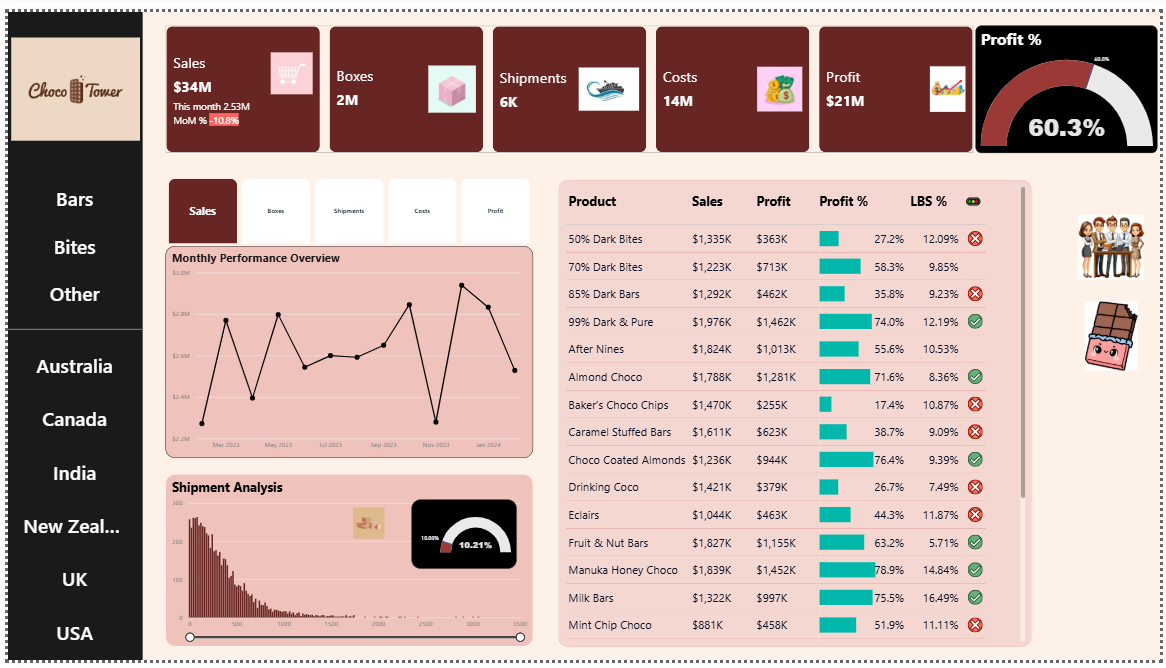

The page's visual inventory and layout, read from the dashboard file:
{"tool":"powerbi","page":{"name":"Sales Report","canvas":[1920,1080],"ordinal":2},"visuals":[{"type":"shape","box":[0,0,224.5,1080.8],"z":0},{"type":"cardVisual","fields":{"Data":["_Measures.Total Sales","_Measures.Total Boxes","_Measures.Total Shipments","_Measures.Total Costs","_Measures.Total Profit"]},"box":[262.5,21.9,1350,212.5],"z":1000},{"type":"gauge","fields":{"Y":["_Measures.Profit %"]},"box":[1612.5,21.9,303.1,212.5],"z":2000},{"type":"image","box":[0,21.9,225,212.5],"z":3000},{"type":"lineChart","title":"Monthly Performance Overview ","fields":{"Y":["_Measures.Total Sales"],"Category":["calendar.Start of Month"]},"box":[262.5,390.6,612.5,353.1],"z":4000},{"type":"advancedSlicerVisual","fields":{"Values":["Measure Selector.Measure Selector"]},"box":[262.5,271.9,612.5,118.8],"z":5000},{"type":"columnChart","title":"Shipment Analysis","fields":{"Category":["shipments.Boxes (bins)"],"Y":["_Measures.Total Shipments"]},"box":[262.5,768.8,612.5,287.5],"z":6000},{"type":"gauge","fields":{"Y":["_Measures.LBS %"]},"box":[671.9,812.5,175,115.6],"z":7000},{"type":"image","box":[568.8,812.5,62.5,78.1],"z":8000},{"type":"tableEx","title":"Product Details","fields":{"Values":["products.Product","_Measures.Total Sales","_Measures.Total Profit","_Measures.Profit %","_Measures.LBS %","_Measures.Profit Target Indicator"]},"box":[917.4,280.6,788.1,778.3],"z":10000},{"type":"image","title":"People Icon","box":[1762.5,331.2,153.1,118.8],"z":11000},{"type":"image","title":"Product Icon","box":[1762.5,478.1,153.1,125],"z":12000},{"type":"advancedSlicerVisual","fields":{"Values":["products.Category"]},"box":[7.3,270.8,207.4,241.5],"z":13000},{"type":"advancedSlicerVisual","fields":{"Values":["locations.Geo"]},"box":[7.3,541.6,207.4,539.2],"z":14000},{"type":"shape","box":[0,387.9,224.5,283],"z":15000}]}

Visuals, with their boxes in screenshot pixels (x1, y1, x2, y2), scaled from the page's 1920x1080 canvas onto the 1166x668 screenshot:
shape: [0, 0, 136, 667]
cardVisual - _Measures.Total Sales x _Measures.Total Boxes: [159, 14, 979, 145]
gauge - _Measures.Profit %: [979, 14, 1163, 145]
image: [0, 14, 137, 145]
"Monthly Performance Overview " lineChart: [159, 242, 531, 460]
advancedSlicerVisual - Measure Selector.Measure Selector: [159, 168, 531, 242]
"Shipment Analysis" columnChart: [159, 476, 531, 653]
gauge - _Measures.LBS %: [408, 503, 514, 574]
image: [345, 503, 383, 551]
"Product Details" tableEx: [557, 174, 1036, 655]
"People Icon" image: [1070, 205, 1163, 278]
"Product Icon" image: [1070, 296, 1163, 373]
advancedSlicerVisual - products.Category: [4, 167, 130, 317]
advancedSlicerVisual - locations.Geo: [4, 335, 130, 667]
shape: [0, 240, 136, 415]
